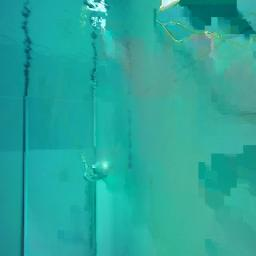Full: (83, 162, 111, 184)
